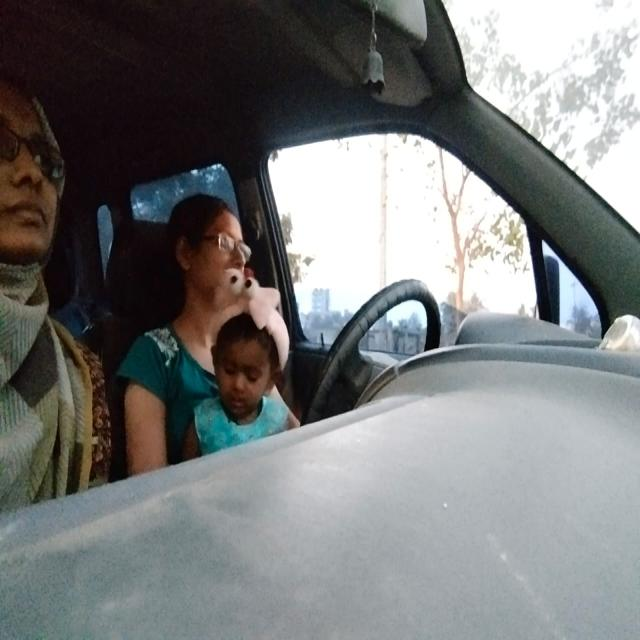child: (206, 318, 286, 418)
person: (0, 71, 70, 280), (170, 185, 256, 292)
